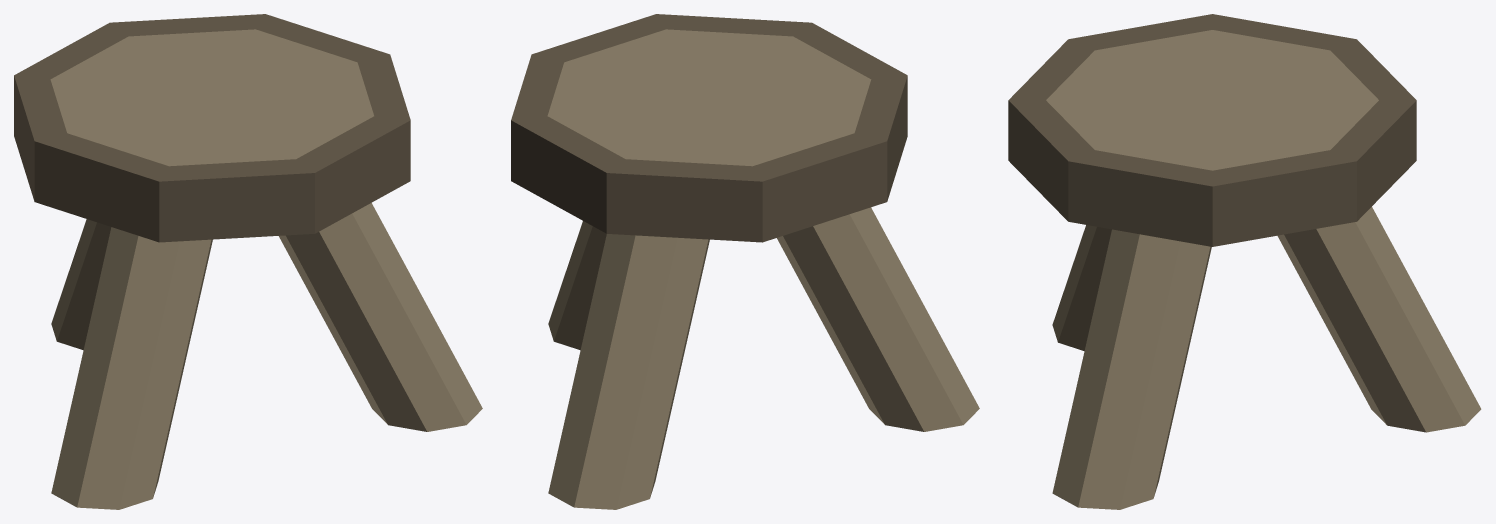
Rendered from banco_lowpoly.fbx.
The picture shows the model from 3 angles, left to right: view 1: azimuth 30°, elevation 25°; view 2: azimuth 150°, elevation 25°; view 3: azimuth 270°, elevation 25°; orthographic projection.
Visible parts, largest first — view 1: Cylinder, Cylinder.003, Cylinder.002, Cylinder.001; view 2: Cylinder, Cylinder.001, Cylinder.003, Cylinder.002; view 3: Cylinder, Cylinder.002, Cylinder.001, Cylinder.003.
Part boxes in pixels (left/top/right/bottom): Cylinder: left=14, top=14, right=410, bottom=242; Cylinder.003: left=51, top=227, right=212, bottom=509; Cylinder.002: left=279, top=203, right=482, bottom=431; Cylinder.001: left=51, top=219, right=111, bottom=350; Cylinder: left=511, top=14, right=907, bottom=242; Cylinder.001: left=548, top=234, right=709, bottom=509; Cylinder.003: left=777, top=207, right=979, bottom=431; Cylinder.002: left=548, top=221, right=606, bottom=350; Cylinder: left=1008, top=14, right=1416, bottom=246; Cylinder.002: left=1052, top=229, right=1211, bottom=509; Cylinder.001: left=1277, top=207, right=1481, bottom=432; Cylinder.003: left=1052, top=225, right=1111, bottom=350.
Bounding box in the file's own units: 234 × 167 × 232.
